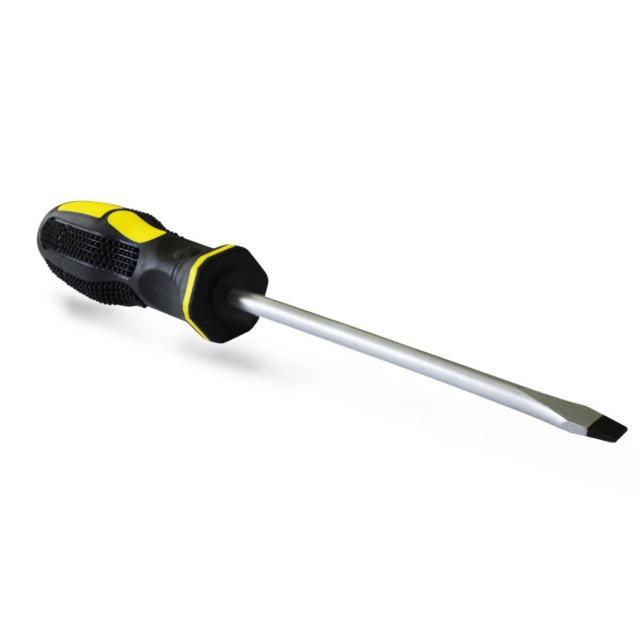screwdriver: (34, 194, 630, 448)
